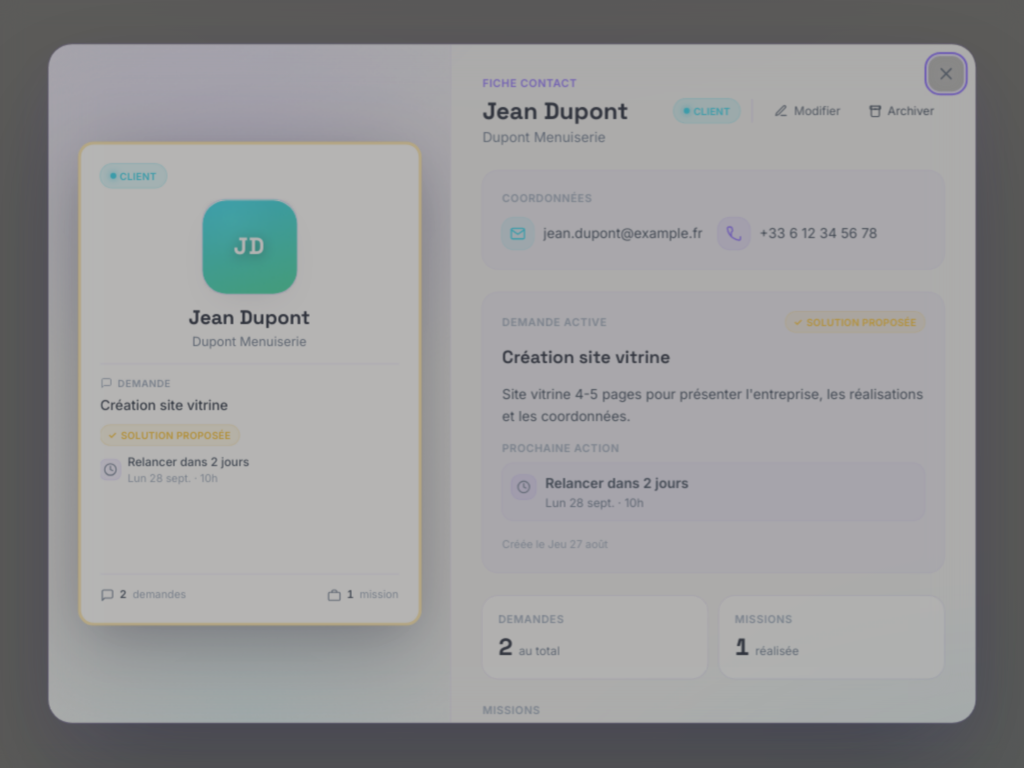
App / Router — flux modales archivage › 7. clic Archiver: ferme ContactCardModal ET ouvre ArchiveConfirmation — jamais deux dialogues ouverts simultanément
Click the button "Archiver" at [901, 112], box [858,98,944,125]
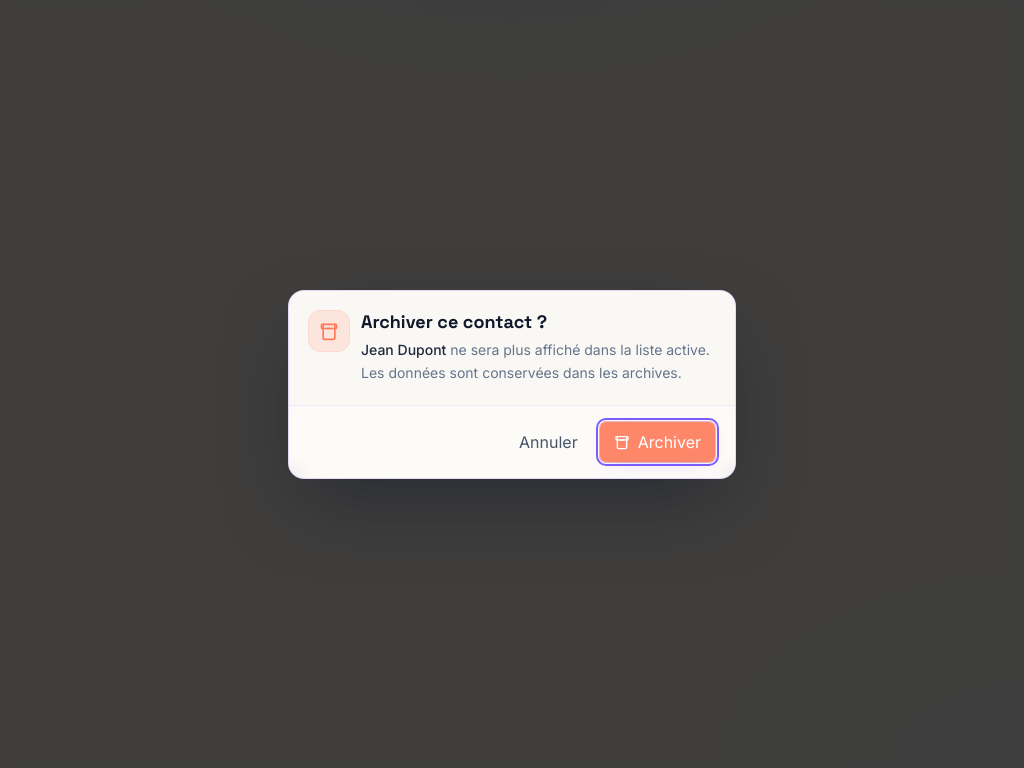
Result: the dialog is shown
